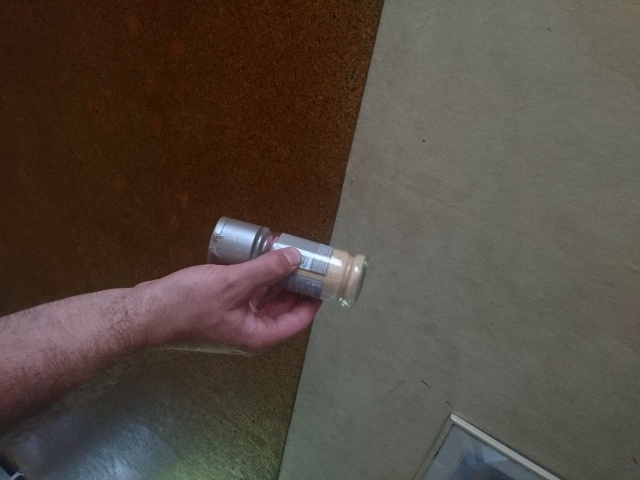Kotanyi Garlic Granules 70g: (203, 213, 372, 312)
